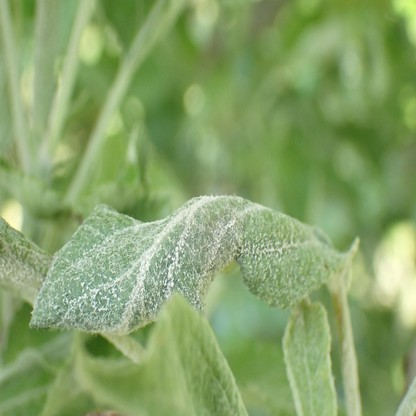powdery_mildew: (30, 197, 359, 331), (1, 216, 47, 308)
